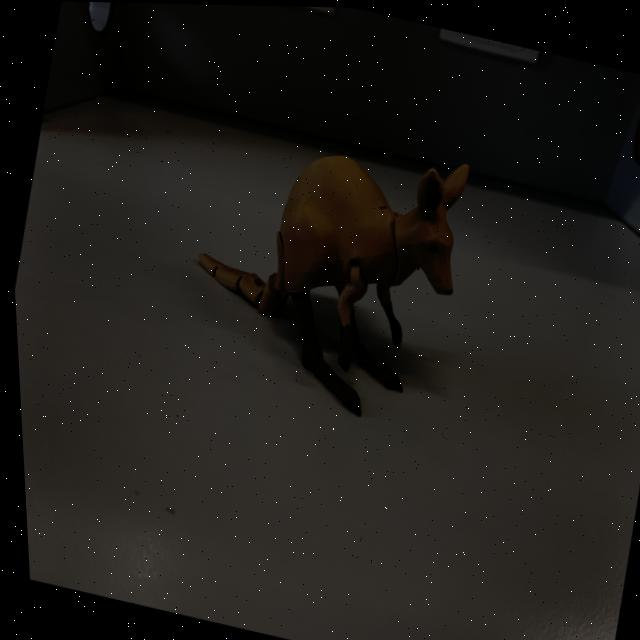kangaroo: (157, 102, 484, 435)
